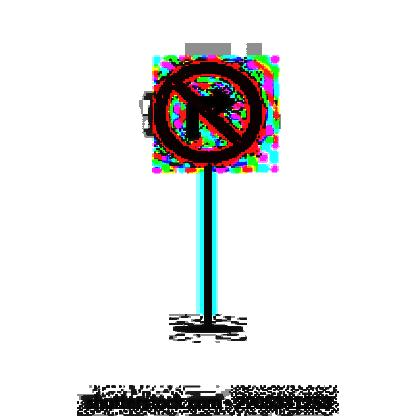No right turn: (146, 50, 267, 167)
